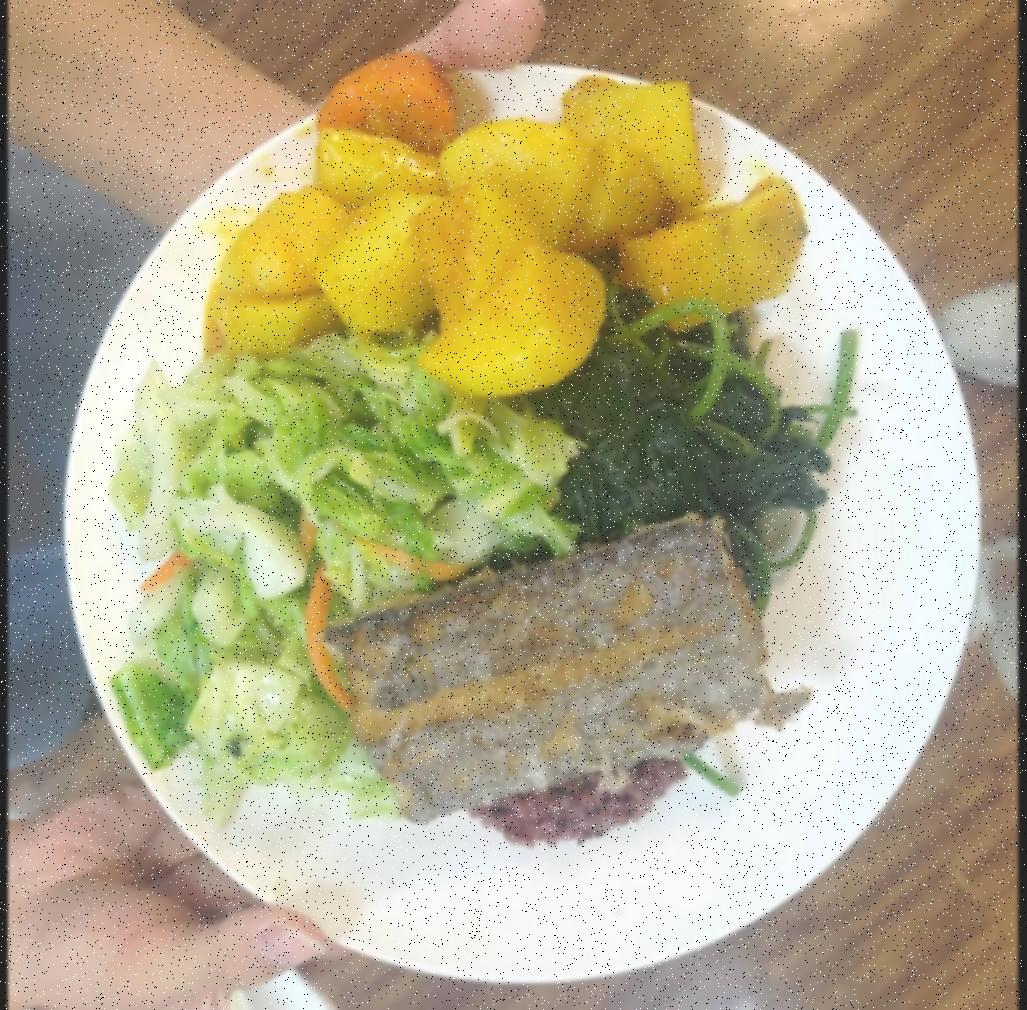pan fried fish fillet: (319, 508, 784, 835)
plate: (49, 34, 1000, 1003)
purple rice: (466, 746, 690, 864)
side dish: (199, 40, 812, 398), (124, 323, 578, 800), (536, 293, 842, 588)
